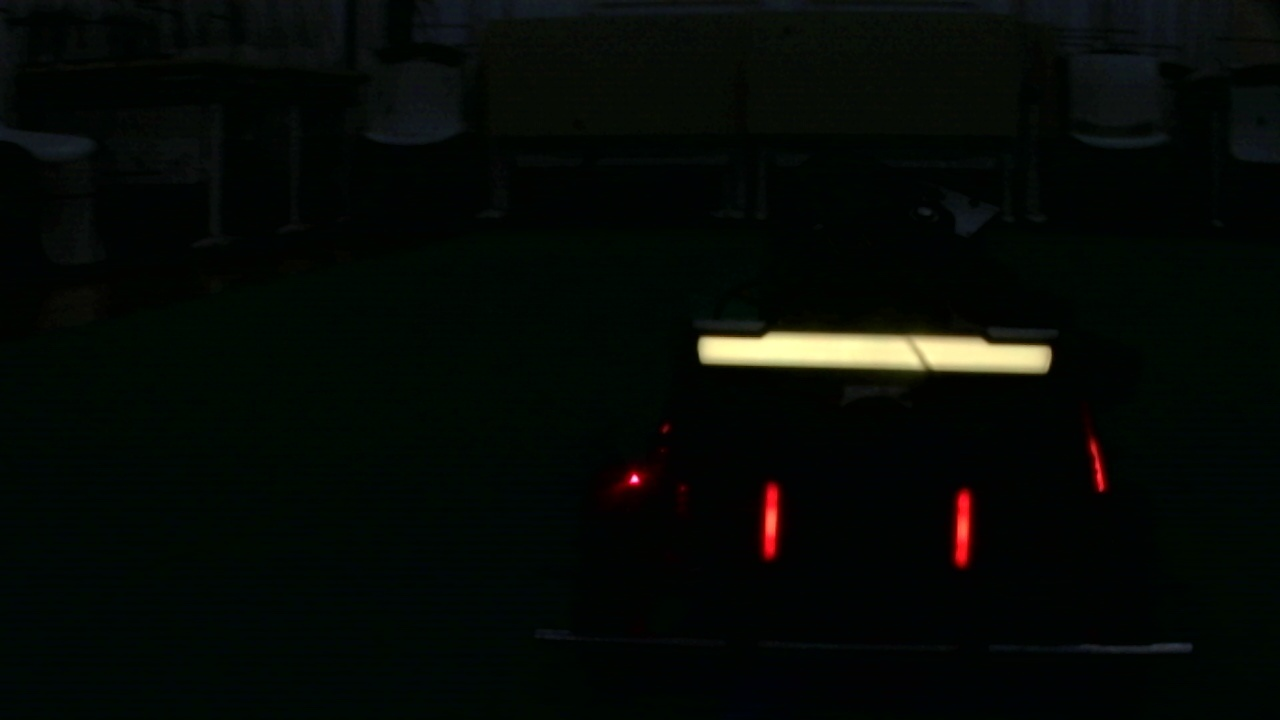lamp: (760, 481, 779, 558), (953, 482, 970, 565)
notpair1: (953, 425, 1104, 568)
pair1: (761, 484, 970, 564)
